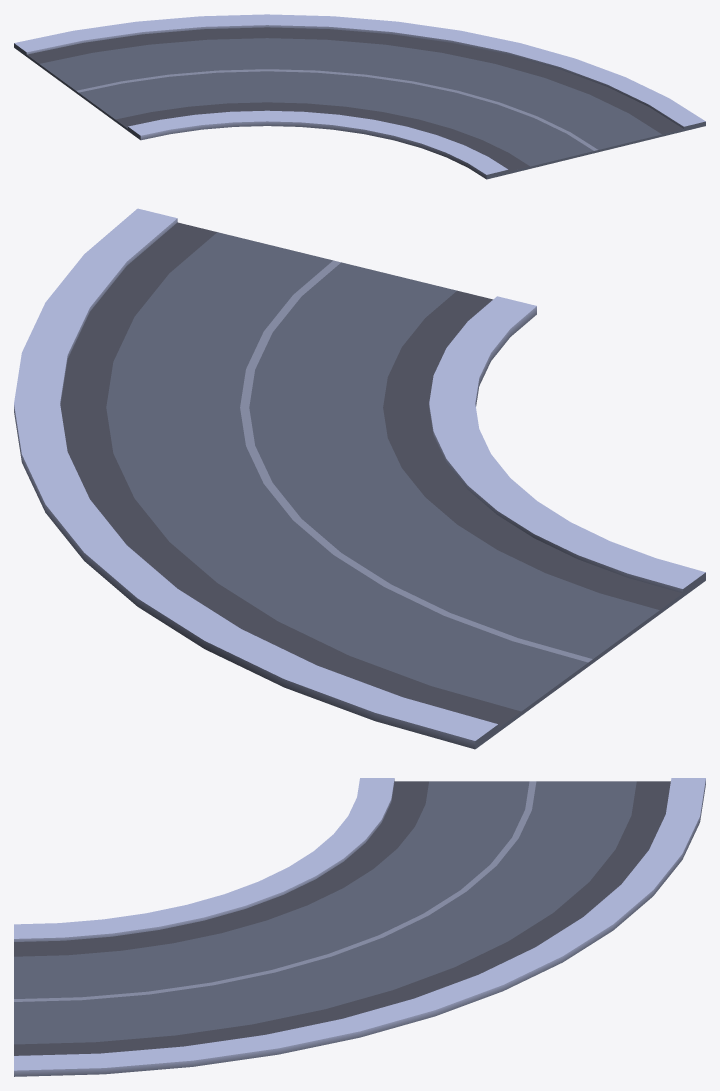
File: road-curve.glb
3 views of the same model, one above another, from view 1: azimuth 30°, elevation 25°; view 2: azimuth 150°, elevation 25°; view 3: azimuth 270°, elevation 25° (orthographic). The views are drawn at different scales.
Parts seen in each view (by area): view 1: road-curve; view 2: road-curve; view 3: road-curve.
Part boxes in pixels (<box>): road-curve: <box>14,14,705,179</box>; road-curve: <box>14,208,705,749</box>; road-curve: <box>14,778,705,1076</box>.
Size of the model in its own units: 2 by 0.02 by 2.
Materials: 1 (1 with a texture image).
